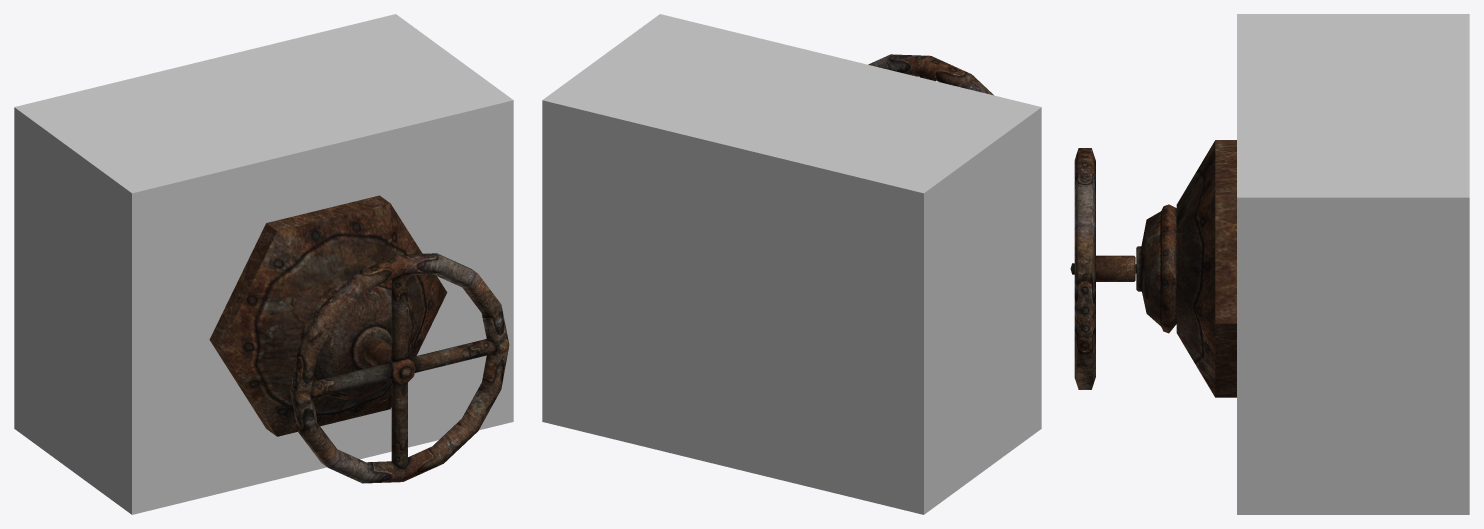
The model's file is valve_iron_rusty.dae.
The picture shows the model from 3 angles, left to right: view 1: azimuth 30°, elevation 25°; view 2: azimuth 150°, elevation 25°; view 3: azimuth 270°, elevation 25°; orthographic projection.
Parts seen in each view (by area): view 1: pCube1, valve_iron_base, valve_iron_valve; view 2: pCube1, valve_iron_valve; view 3: pCube1, valve_iron_base, valve_iron_valve.
Boxes of the visible parts, left/top/right/bottom form: pCube1: left=14, top=14, right=513, bottom=514; valve_iron_base: left=209, top=195, right=447, bottom=436; valve_iron_valve: left=290, top=253, right=509, bottom=483; pCube1: left=542, top=14, right=1041, bottom=514; valve_iron_valve: left=868, top=54, right=993, bottom=95; pCube1: left=1237, top=14, right=1469, bottom=514; valve_iron_base: left=1136, top=140, right=1236, bottom=397; valve_iron_valve: left=1070, top=148, right=1136, bottom=389.
Bounding box in the file's own units: 0.6996 × 0.5633 × 0.6421.
